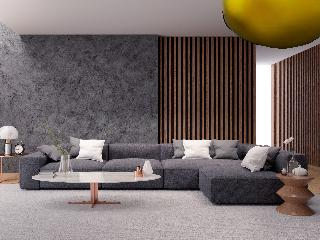lemon: (222, 0, 320, 49)
